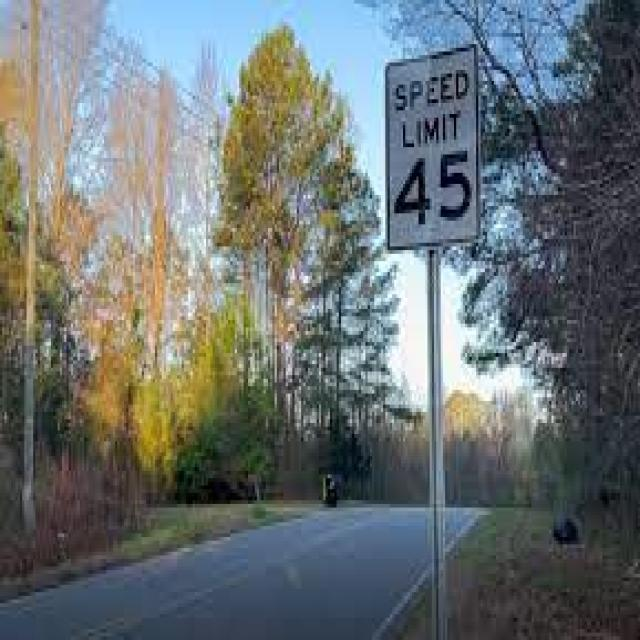speedLimit45: (386, 40, 475, 254)
